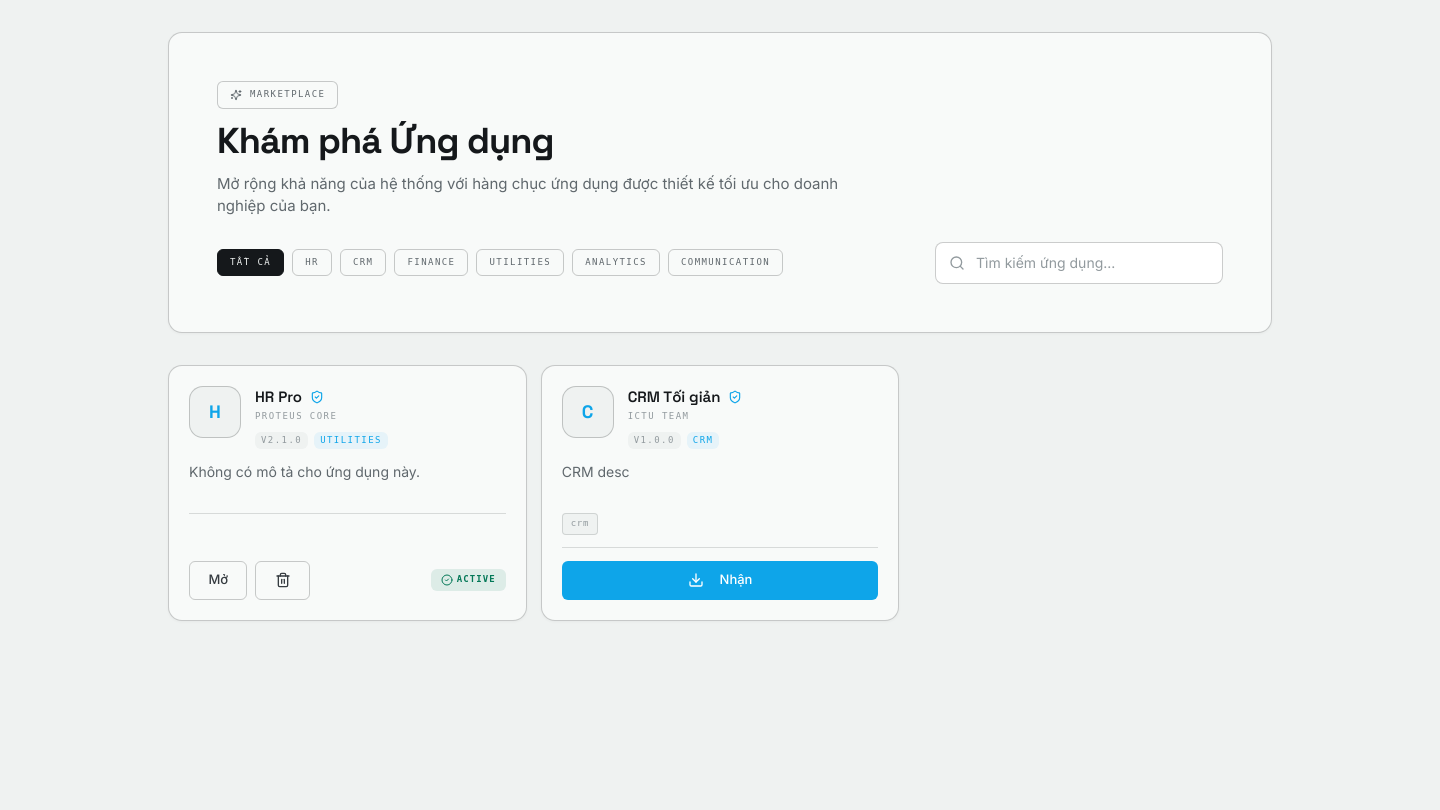
Test case: MarketplaceClient › opens install preview dialog when Nhận is clicked
This screenshot has width=1440, height=810.
Click the button "Nhận" at (720, 580), box [562,560,878,600]
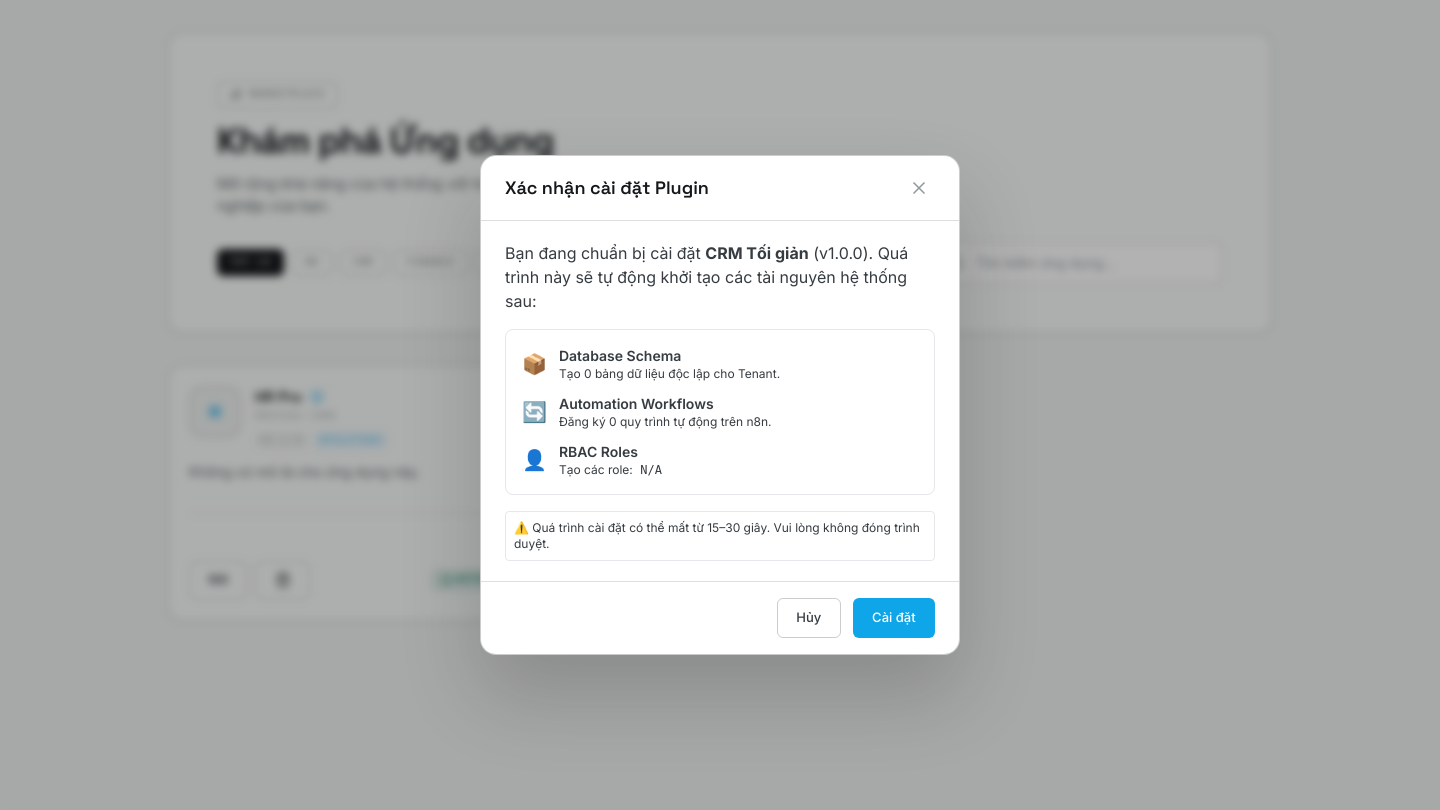
Expected: the heading "Xác nhận cài đặt Plugin" is shown, [505,174,709,202]
Expected: the text "Bạn đang chuẩn bị cài đặt" is shown, [505,244,701,264]
